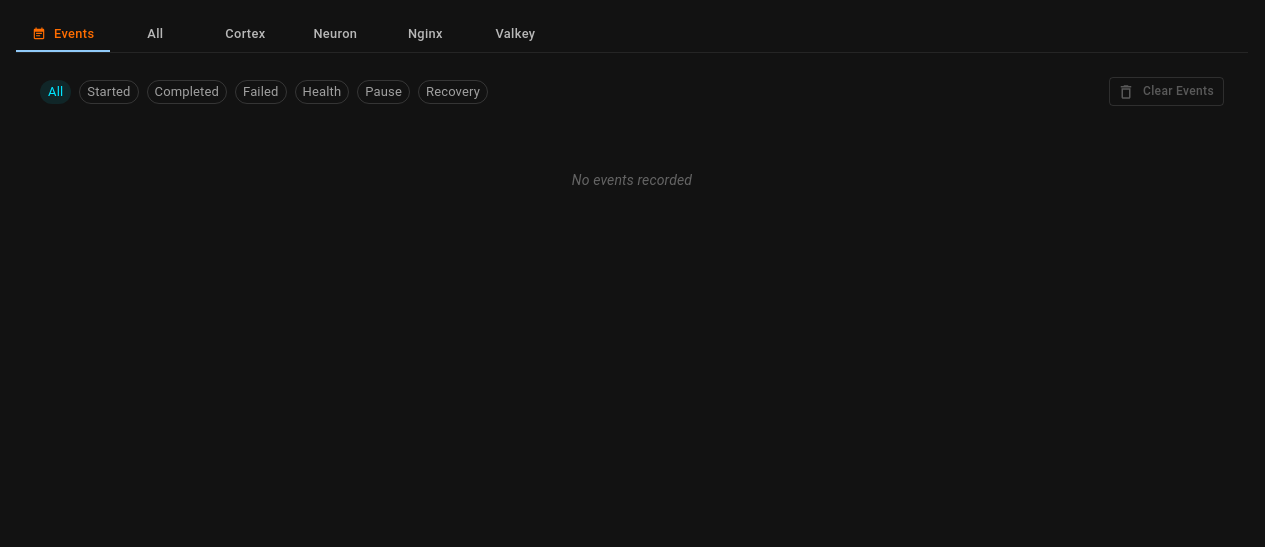
it: LogsTab › shows an error alert when the diagnostic export fails
Click the tab "All" at (155, 34), box top-left (110, 16), bottom-right (200, 52)
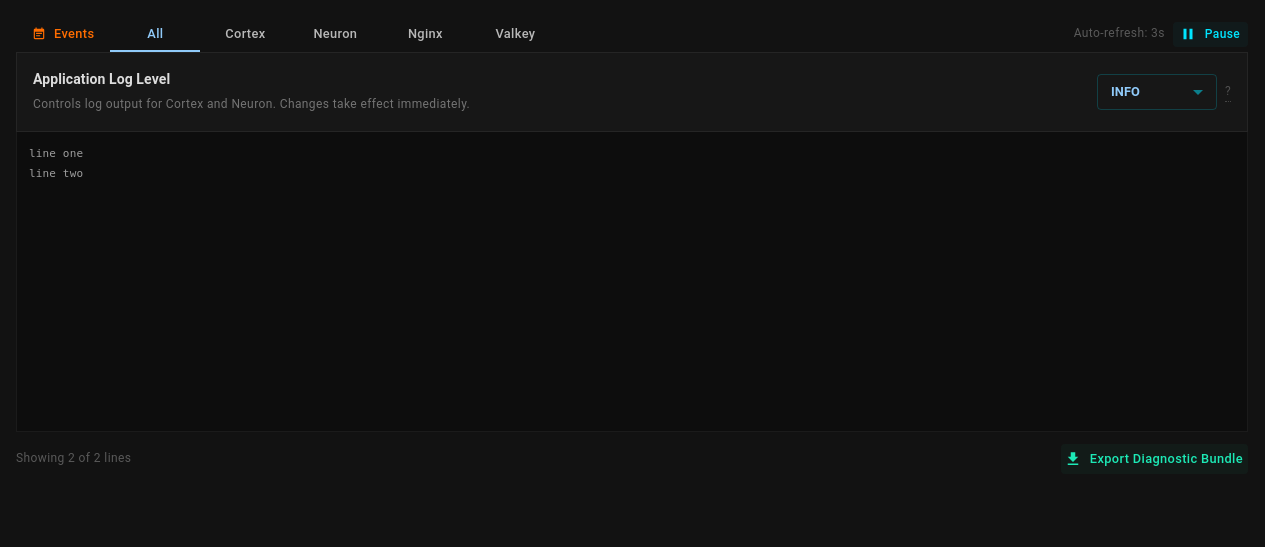
Click the button "Export Diagnostic Bundle" at (1154, 459), box top-left (1061, 444), bottom-right (1248, 474)
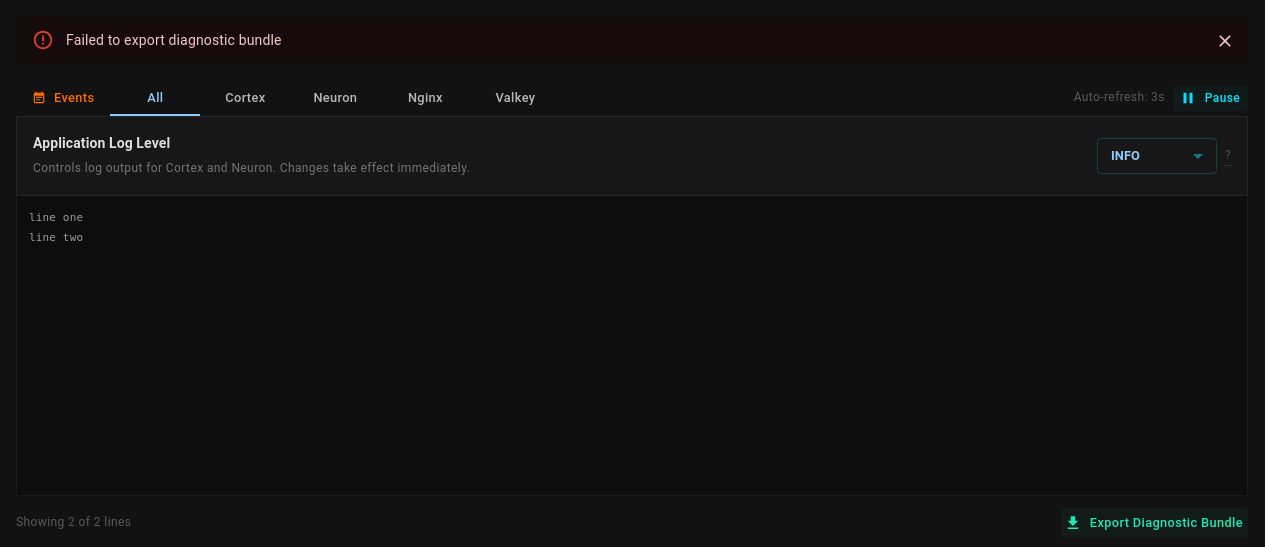
Now the text "Failed to export diagnostic bundle" is shown, box top-left (66, 32), bottom-right (282, 48)
